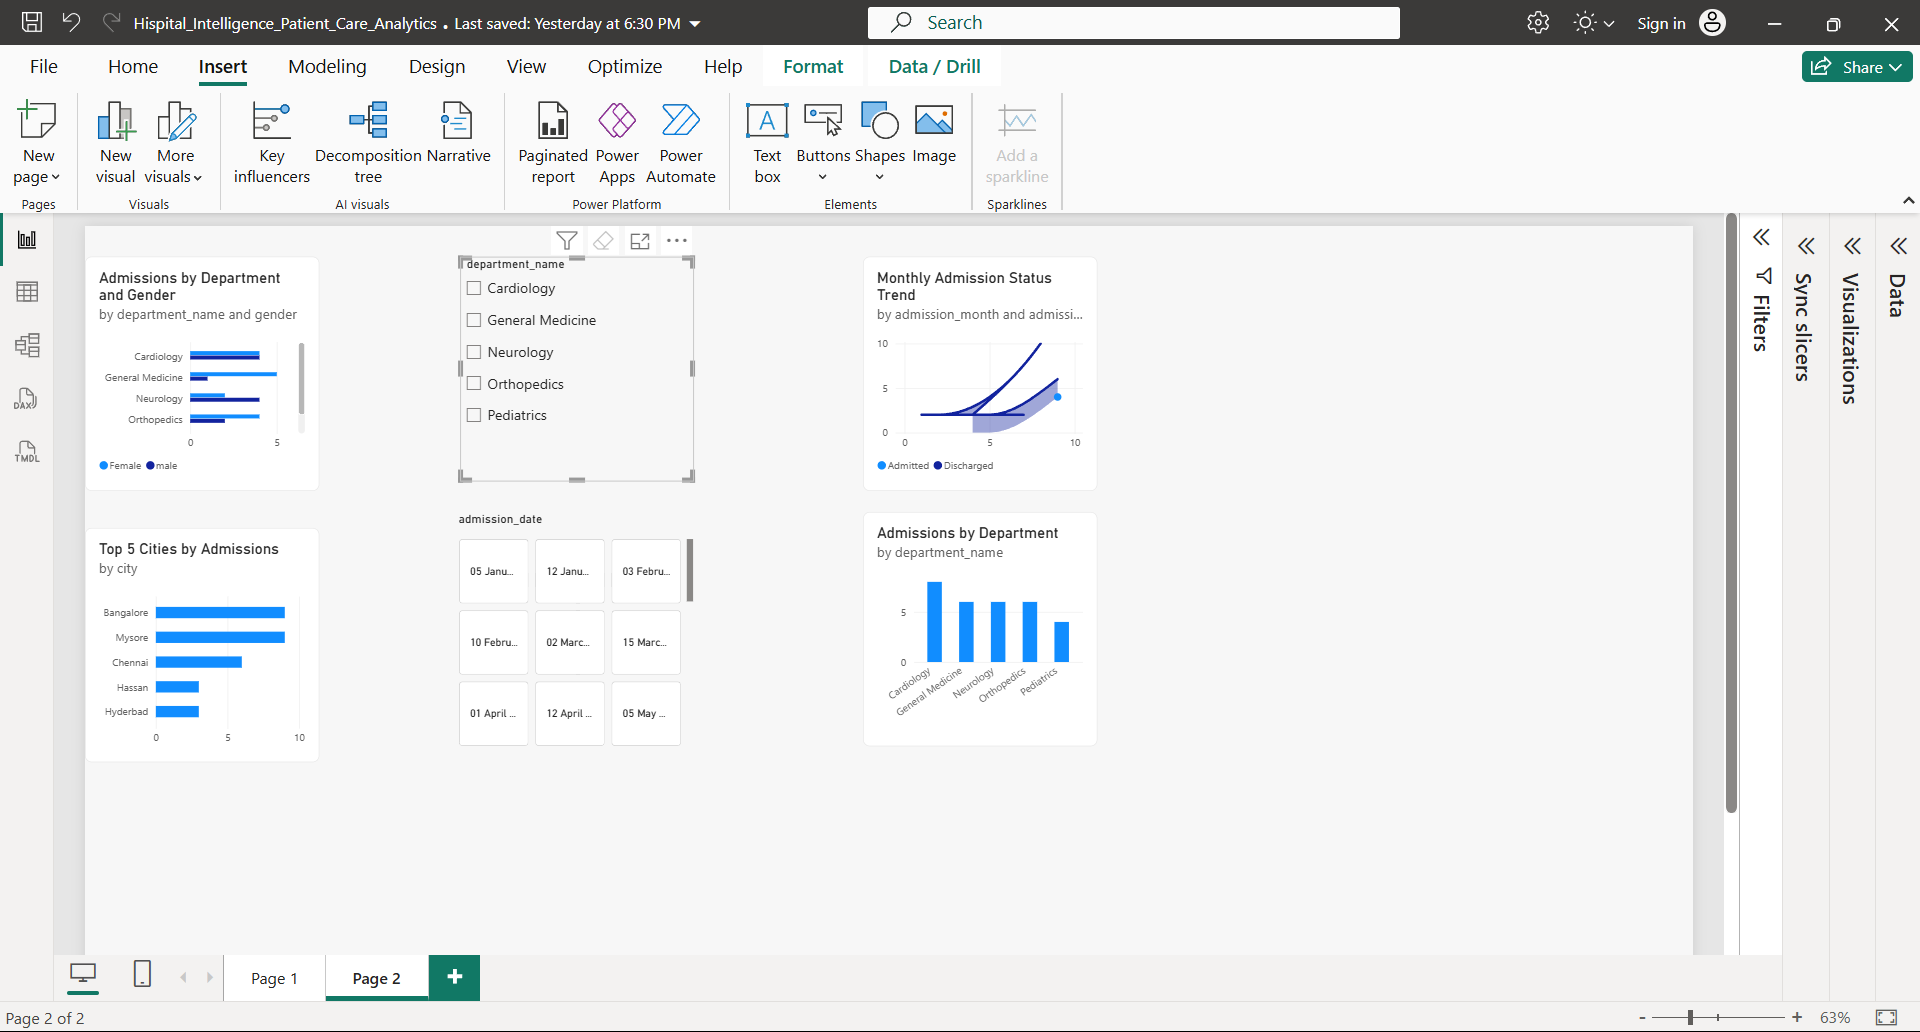

The dashboard page shown, as its layout file describes it:
{"tool":"powerbi","page":{"name":"Page 2","canvas":[1920,1080],"ordinal":1},"visuals":[{"type":"clusteredBarChart","fields":{"Category":["hospital_analytics vw_hospital_patient_analytics.department_name"],"Series":["hospital_analytics vw_hospital_patient_analytics.gender"],"Y":["CountNonNull(hospital_analytics vw_hospital_patient_analytics.admission_id)"]},"box":[0,36.2,280,280],"z":0},{"type":"stackedAreaChart","fields":{"Category":["hospital_analytics vw_hospital_patient_analytics.admission_month"],"Series":["hospital_analytics vw_hospital_patient_analytics.admission_status"],"Y":["CountNonNull(hospital_analytics vw_hospital_patient_analytics.admission_id)"]},"box":[928.3,36.7,280,280],"z":1000},{"type":"clusteredBarChart","fields":{"Category":["hospital_analytics vw_hospital_patient_analytics.city"],"Y":["CountNonNull(hospital_analytics vw_hospital_patient_analytics.admission_id)"]},"box":[0,361,280,280],"z":2000},{"type":"clusteredColumnChart","fields":{"Category":["hospital_analytics vw_hospital_patient_analytics.department_name"],"Y":["Count(hospital_analytics vw_hospital_patient_analytics.admission_id)"]},"box":[928.3,341.7,280,280],"z":3000},{"type":"advancedSlicerVisual","fields":{"Values":["hospital_analytics vw_hospital_patient_analytics.admission_date"]},"box":[446.7,341.7,280,280],"z":4000},{"type":"slicer","fields":{"Values":["hospital_analytics vw_hospital_patient_analytics.department_name"]},"box":[447.6,36.5,280,268],"z":4001}]}

Visuals, with their boxes on the page's 1920x1080 design canvas (x1, y1, x2, y2). These are canvas units, not pixel positions in the 1920x1032 screenshot, which may show the page scaled, cropped or inside an application window:
clusteredBarChart - hospital_analytics vw_hospital_patient_analytics.department_name x hospital_analytics vw_hospital_patient_analytics.gender: 0,36,280,316
stackedAreaChart - hospital_analytics vw_hospital_patient_analytics.admission_month x hospital_analytics vw_hospital_patient_analytics.admission_status: 928,37,1208,317
clusteredBarChart - hospital_analytics vw_hospital_patient_analytics.city x CountNonNull(hospital_analytics vw_hospital_patient_analytics.admission_id): 0,361,280,641
clusteredColumnChart - hospital_analytics vw_hospital_patient_analytics.department_name x Count(hospital_analytics vw_hospital_patient_analytics.admission_id): 928,342,1208,622
advancedSlicerVisual - hospital_analytics vw_hospital_patient_analytics.admission_date: 447,342,727,622
slicer - hospital_analytics vw_hospital_patient_analytics.department_name: 448,36,728,304
